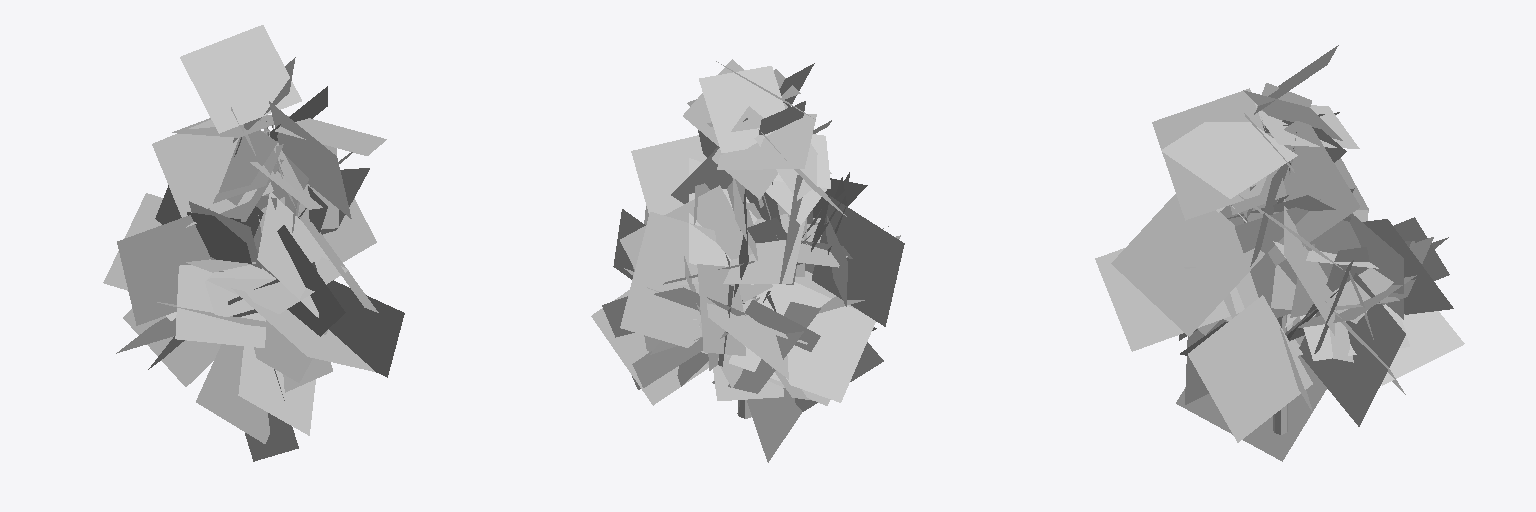
3 renders of one model, left to right at view 1: azimuth 30°, elevation 25°; view 2: azimuth 150°, elevation 25°; view 3: azimuth 270°, elevation 25°, orthographic.
Parts seen in each view (by area): view 1: trunk; view 2: trunk; view 3: trunk.
Part boxes in pixels (x1,y1,x2,y2): trunk: (103, 25, 404, 461); trunk: (591, 59, 904, 462); trunk: (1095, 45, 1464, 461).
Size of the model in its own units: 15.4 by 22.01 by 17.89.